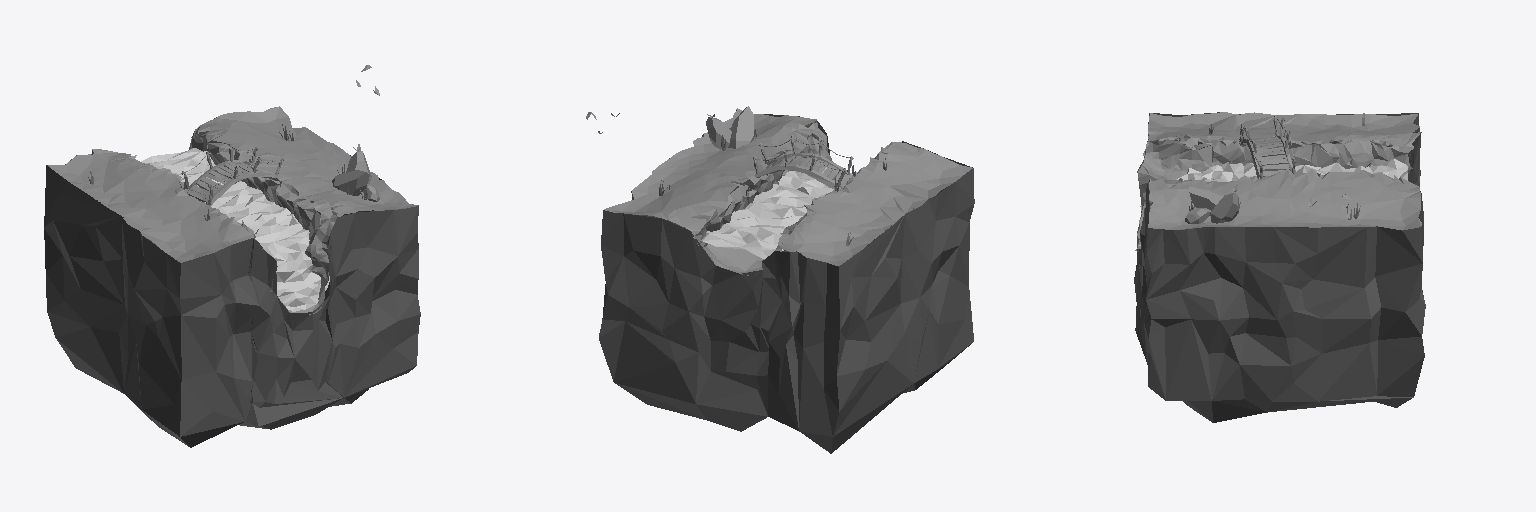
File: bridge.obj
3 renders of one model, left to right at view 1: azimuth 30°, elevation 25°; view 2: azimuth 150°, elevation 25°; view 3: azimuth 270°, elevation 25°, orthographic.
Visible parts, largest first — view 1: terrain.002_Mesh, terrain_Mesh.003, water_Mesh.001, Cylinder.006_Mesh.002; view 2: terrain.002_Mesh, terrain_Mesh.003, water_Mesh.001, Cylinder.006_Mesh.002; view 3: terrain.002_Mesh, terrain_Mesh.003, Cylinder.006_Mesh.002, water_Mesh.001.
Boxes of the visible parts, <box> form: terrain.002_Mesh: <box>44,117,420,447</box>; terrain_Mesh.003: <box>48,106,417,314</box>; water_Mesh.001: <box>141,148,329,311</box>; Cylinder.006_Mesh.002: <box>88,65,379,220</box>; terrain.002_Mesh: <box>599,110,974,453</box>; terrain_Mesh.003: <box>604,108,972,275</box>; water_Mesh.001: <box>701,167,858,258</box>; Cylinder.006_Mesh.002: <box>586,106,886,245</box>; terrain.002_Mesh: <box>1134,112,1425,422</box>; terrain_Mesh.003: <box>1135,112,1421,251</box>; Cylinder.006_Mesh.002: <box>1185,113,1364,223</box>; water_Mesh.001: <box>1139,159,1407,245</box>.
Size of the model in its own units: 9.4 by 8.01 by 8.02.